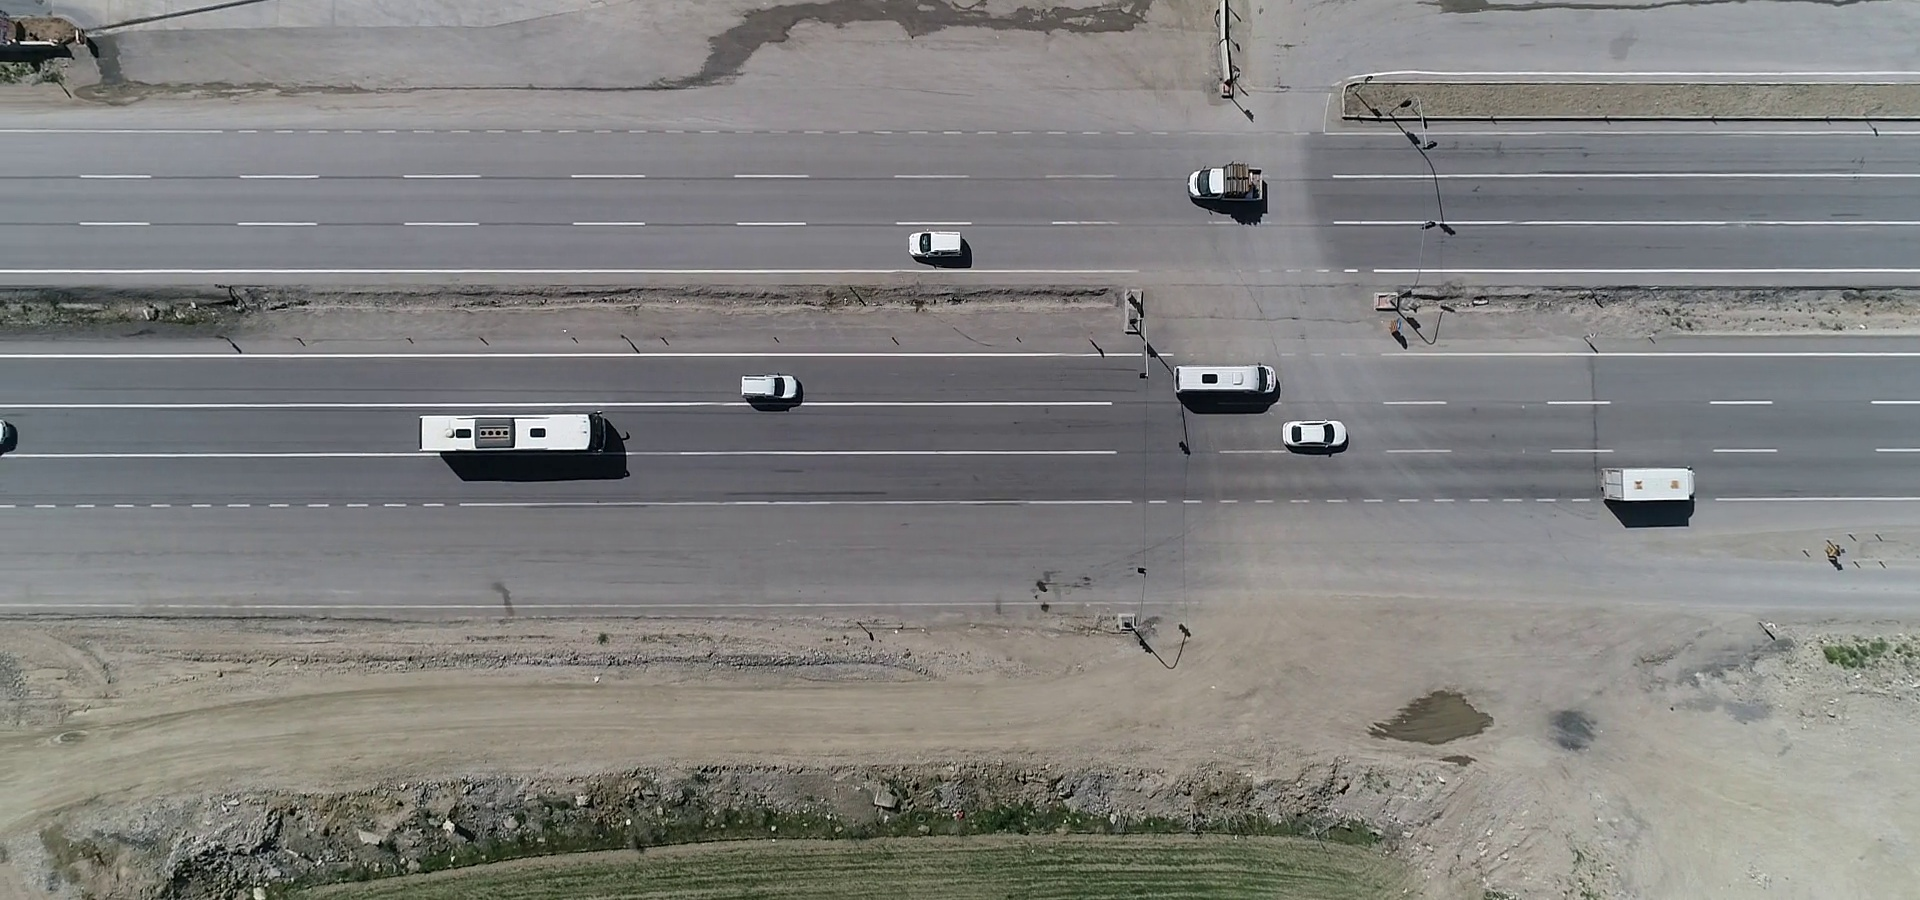arac: (416, 408, 612, 460), (1166, 351, 1287, 397), (1596, 460, 1701, 508), (1180, 162, 1273, 213), (1275, 411, 1351, 454), (737, 369, 801, 411), (909, 227, 976, 264)
